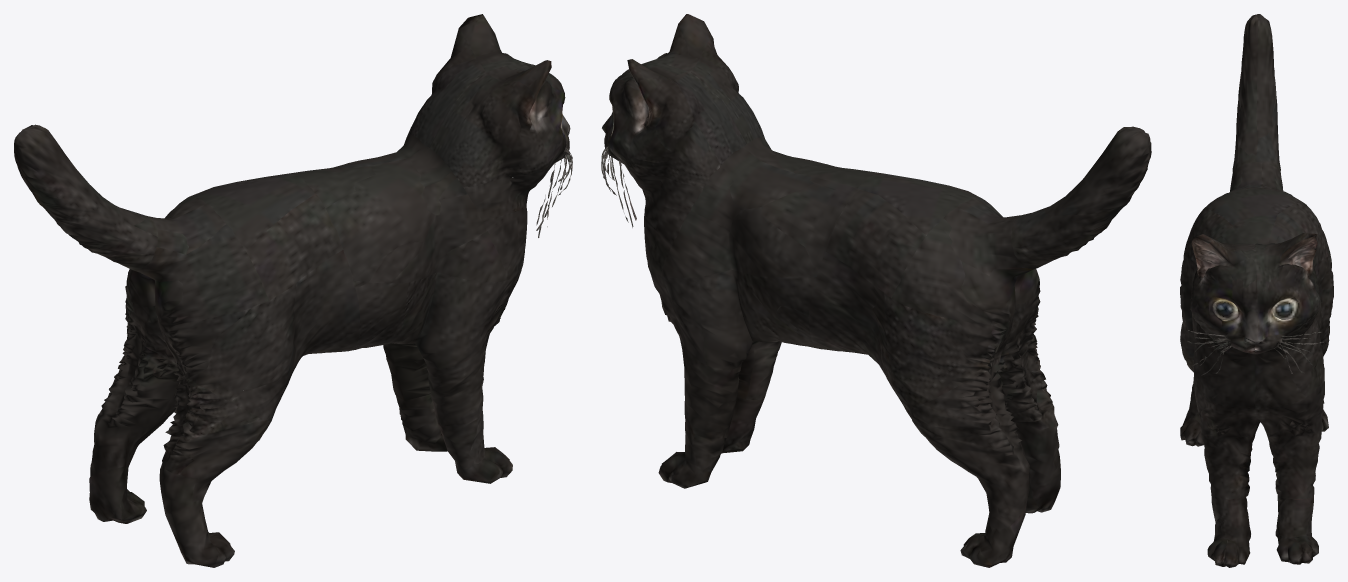
Rendered from MAYORJINX-lo.glb.
3 renders of one model, left to right at view 1: azimuth 30°, elevation 25°; view 2: azimuth 150°, elevation 25°; view 3: azimuth 270°, elevation 25°, orthographic. The views are drawn at different scales.
Parts seen in each view (by area): view 1: tripo_node_490ffbd4-184d-4e5e-93cd-416a963dfd37; view 2: tripo_node_490ffbd4-184d-4e5e-93cd-416a963dfd37; view 3: tripo_node_490ffbd4-184d-4e5e-93cd-416a963dfd37.
Part boxes in pixels (x1=…): tripo_node_490ffbd4-184d-4e5e-93cd-416a963dfd37: x1=14, y1=14, x2=572, y2=567; tripo_node_490ffbd4-184d-4e5e-93cd-416a963dfd37: x1=601, y1=14, x2=1151, y2=567; tripo_node_490ffbd4-184d-4e5e-93cd-416a963dfd37: x1=1180, y1=14, x2=1333, y2=567.
Bounding box in the file's own units: 1.31 × 0.9989 × 0.3788.
Materials: 1 (1 with a texture image).
